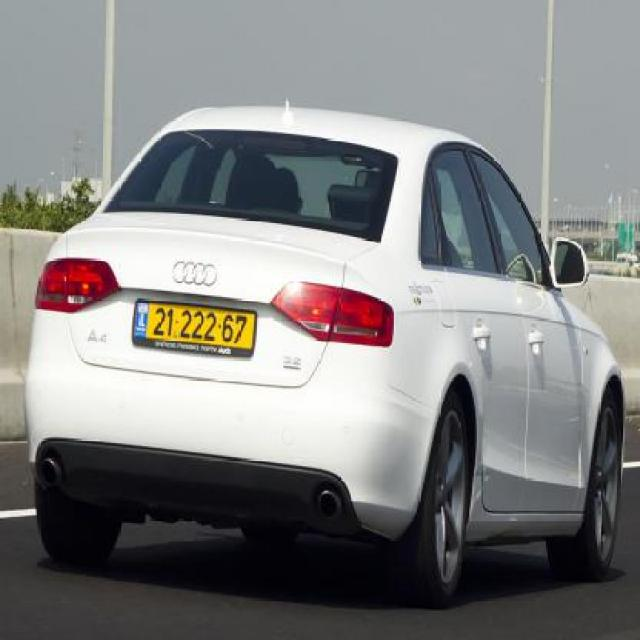License-Plates: (131, 291, 260, 359)
